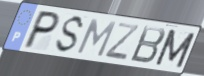B: (128, 25, 168, 66)
M: (153, 28, 198, 70), (74, 17, 118, 59)
P: (20, 9, 63, 51)
S: (54, 14, 88, 55)
Z: (102, 21, 141, 62)
